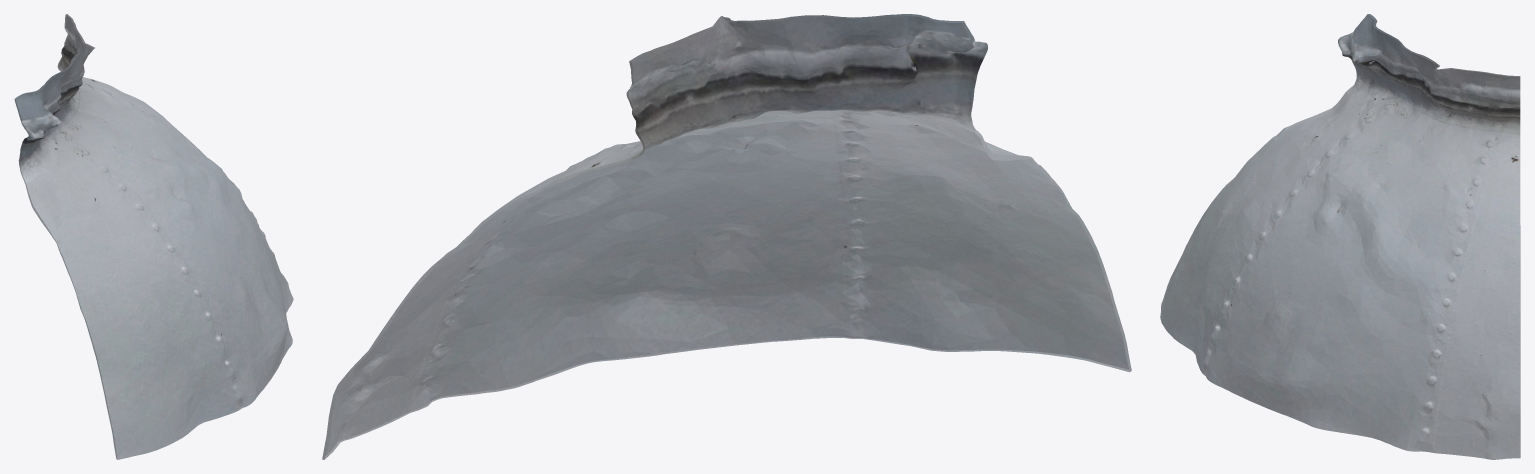
3 renders of one model, left to right at view 1: azimuth 30°, elevation 25°; view 2: azimuth 150°, elevation 25°; view 3: azimuth 270°, elevation 25°, orthographic. The views are drawn at different scales.
Parts seen in each view (by area): view 1: node_44; view 2: node_44; view 3: node_44.
Boxes of the visible parts, x1,y1,x2,y2 form: node_44: (14, 14, 293, 459); node_44: (322, 14, 1131, 459); node_44: (1160, 14, 1520, 459).
Bounding box in the file's own units: 1.08 × 0.9363 × 1.06.
Materials: 1 (1 with a texture image).
